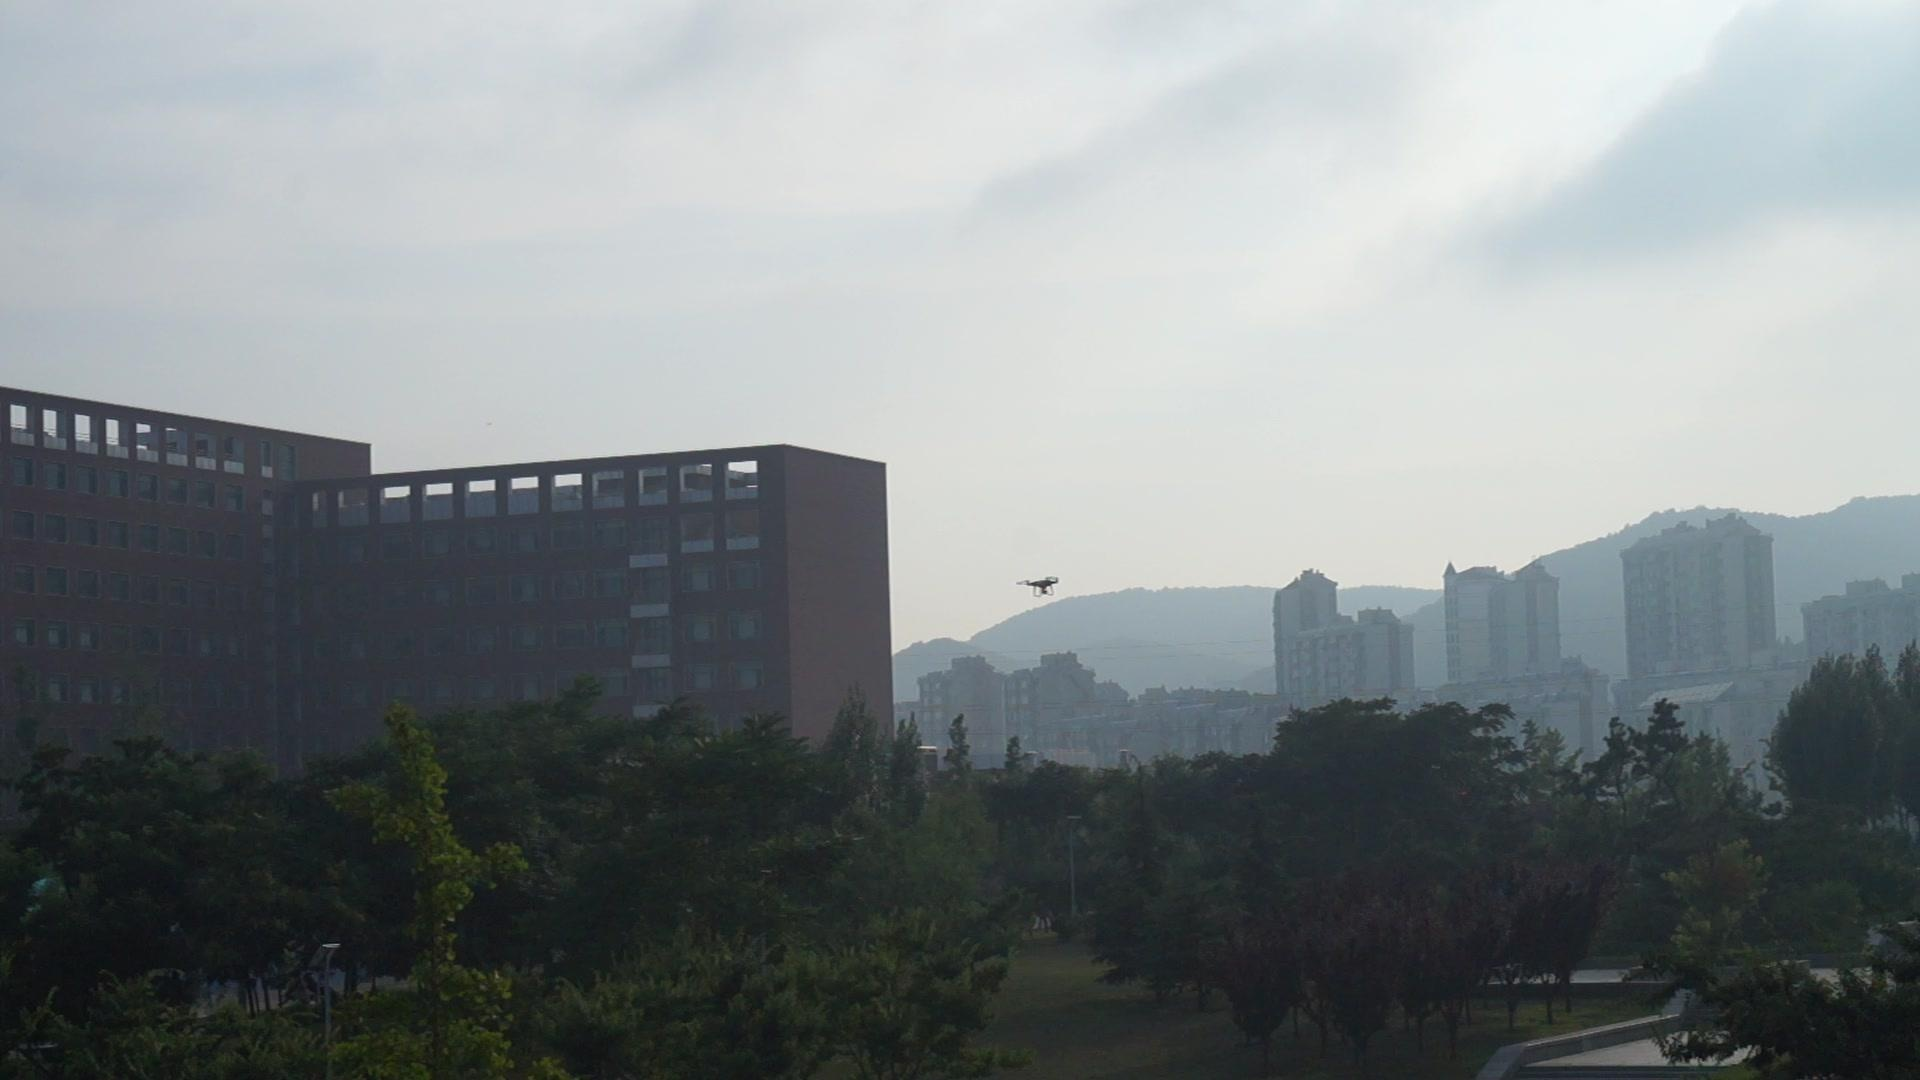UAV: (1017, 576, 1060, 597)
